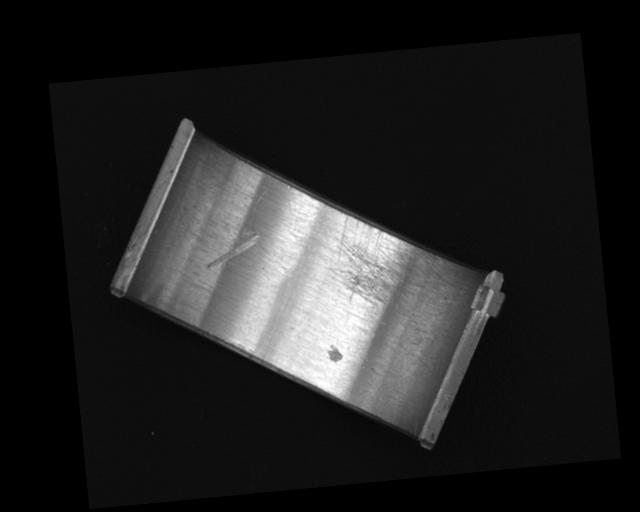bruise: (326, 343, 343, 364)
nick: (203, 227, 262, 269), (248, 187, 275, 261)
scratch: (319, 205, 442, 311)
